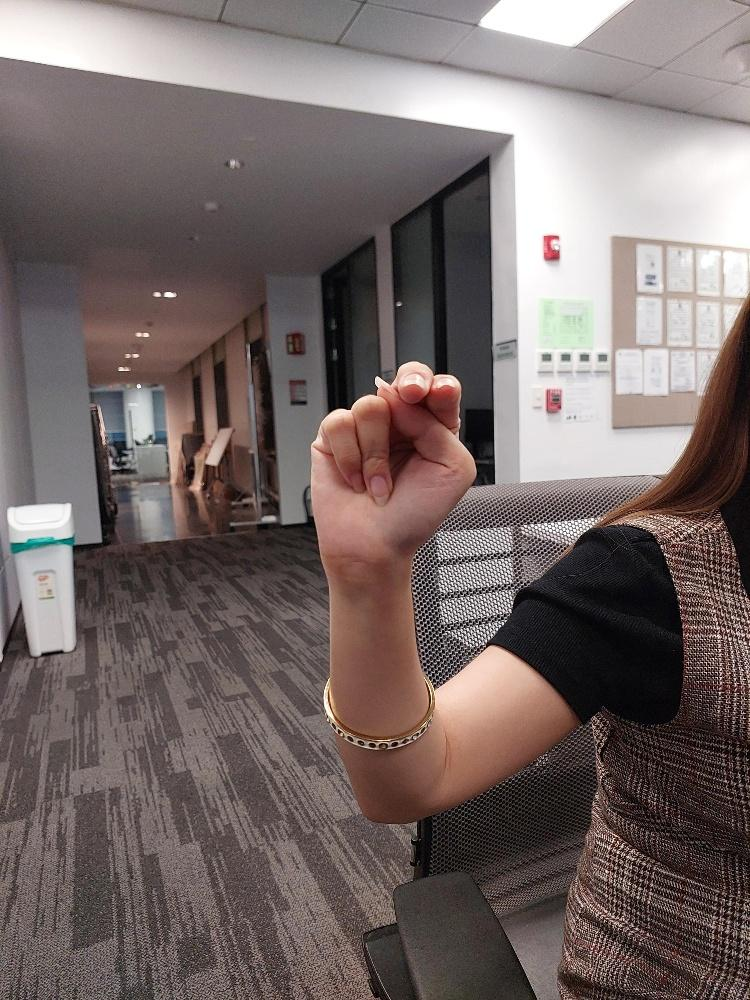n: (308, 356, 479, 580)
